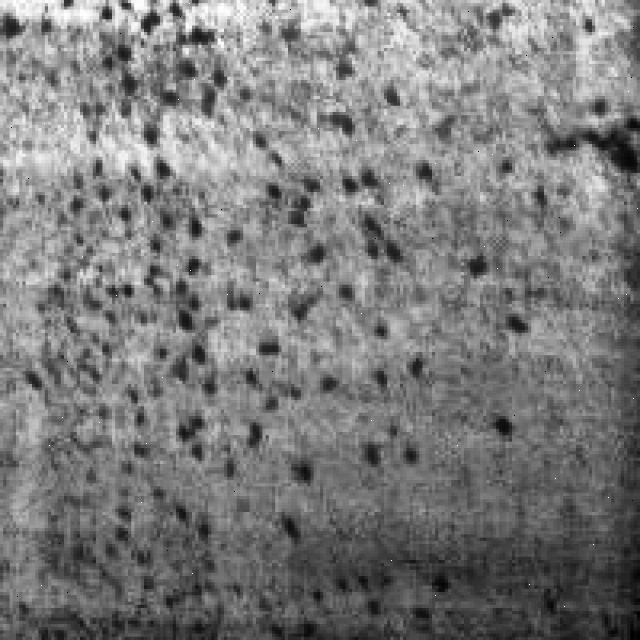Rolled_in_Scale: (48, 0, 425, 502)
